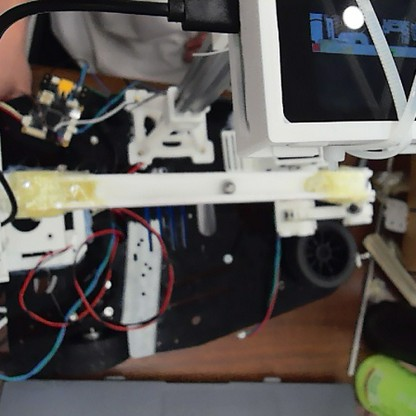ironball: (217, 176, 237, 196)
